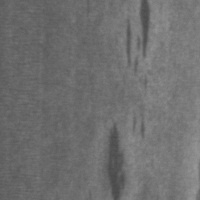inclusion: (123, 1, 155, 144), (103, 121, 128, 199)
